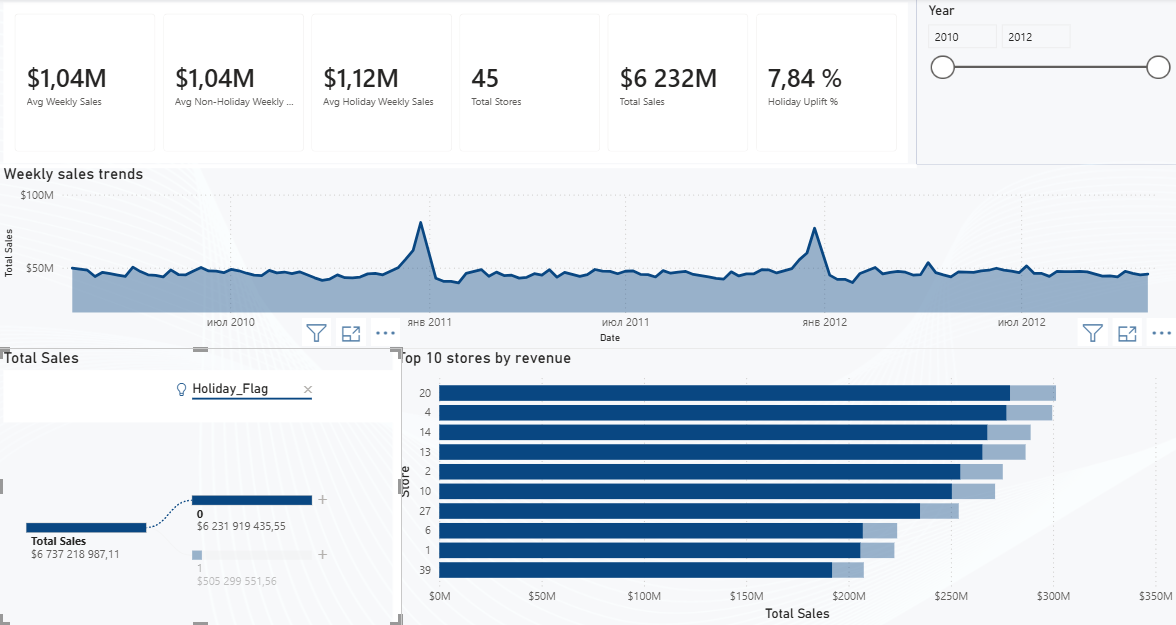

The page's visual inventory and layout, read from the dashboard file:
{"tool":"powerbi","page":{"name":"Страница 1","canvas":[1280,720],"ordinal":0},"visuals":[{"type":"cardVisual","fields":{"Data":["Dim_Date.Avg Weekly Sales","Dim_Date.Avg Non-Holiday Weekly Sales","Dim_Date.Avg Holiday Weekly Sales","Dim_Date.Total Stores","Dim_Date.Total Sales","Dim_Date.Holiday Uplift %"]},"box":[0,0,905,185],"z":0},{"type":"areaChart","title":"Weekly sales trends","fields":{"Y":["Dim_Date.Total Sales"],"Category":["Dim_Date.Date"]},"box":[0,180,1280,200],"z":1},{"type":"slicer","fields":{"Values":["Dim_Date.Year"]},"box":[905,0,375,180],"z":2},{"type":"clusteredBarChart","title":" Top 10 stores by revenue","fields":{"Category":["Dim_Store.Store"],"Y":["Dim_Date.Total Sales"]},"box":[436.7,380,843.3,301.7],"z":3},{"type":"decompositionTreeVisual","title":"Total Sales","fields":{"Analyze":["Dim_Date.Total Sales"],"ExplainBy":["Walmart_Sales.Holiday_Flag","Dim_Date.Year"]},"box":[0,380,436.7,301.7],"z":4}]}

Visuals, with their boxes on the page's 1280x720 design canvas (x1, y1, x2, y2). These are canvas units, not pixel positions in the 1176x625 screenshot, which may show the page scaled, cropped or inside an application window:
cardVisual - Dim_Date.Avg Weekly Sales x Dim_Date.Avg Non-Holiday Weekly Sales: bbox(0, 0, 905, 185)
"Weekly sales trends" areaChart: bbox(0, 180, 1280, 380)
slicer - Dim_Date.Year: bbox(905, 0, 1280, 180)
" Top 10 stores by revenue" clusteredBarChart: bbox(437, 380, 1280, 682)
"Total Sales" decompositionTreeVisual: bbox(0, 380, 437, 682)
